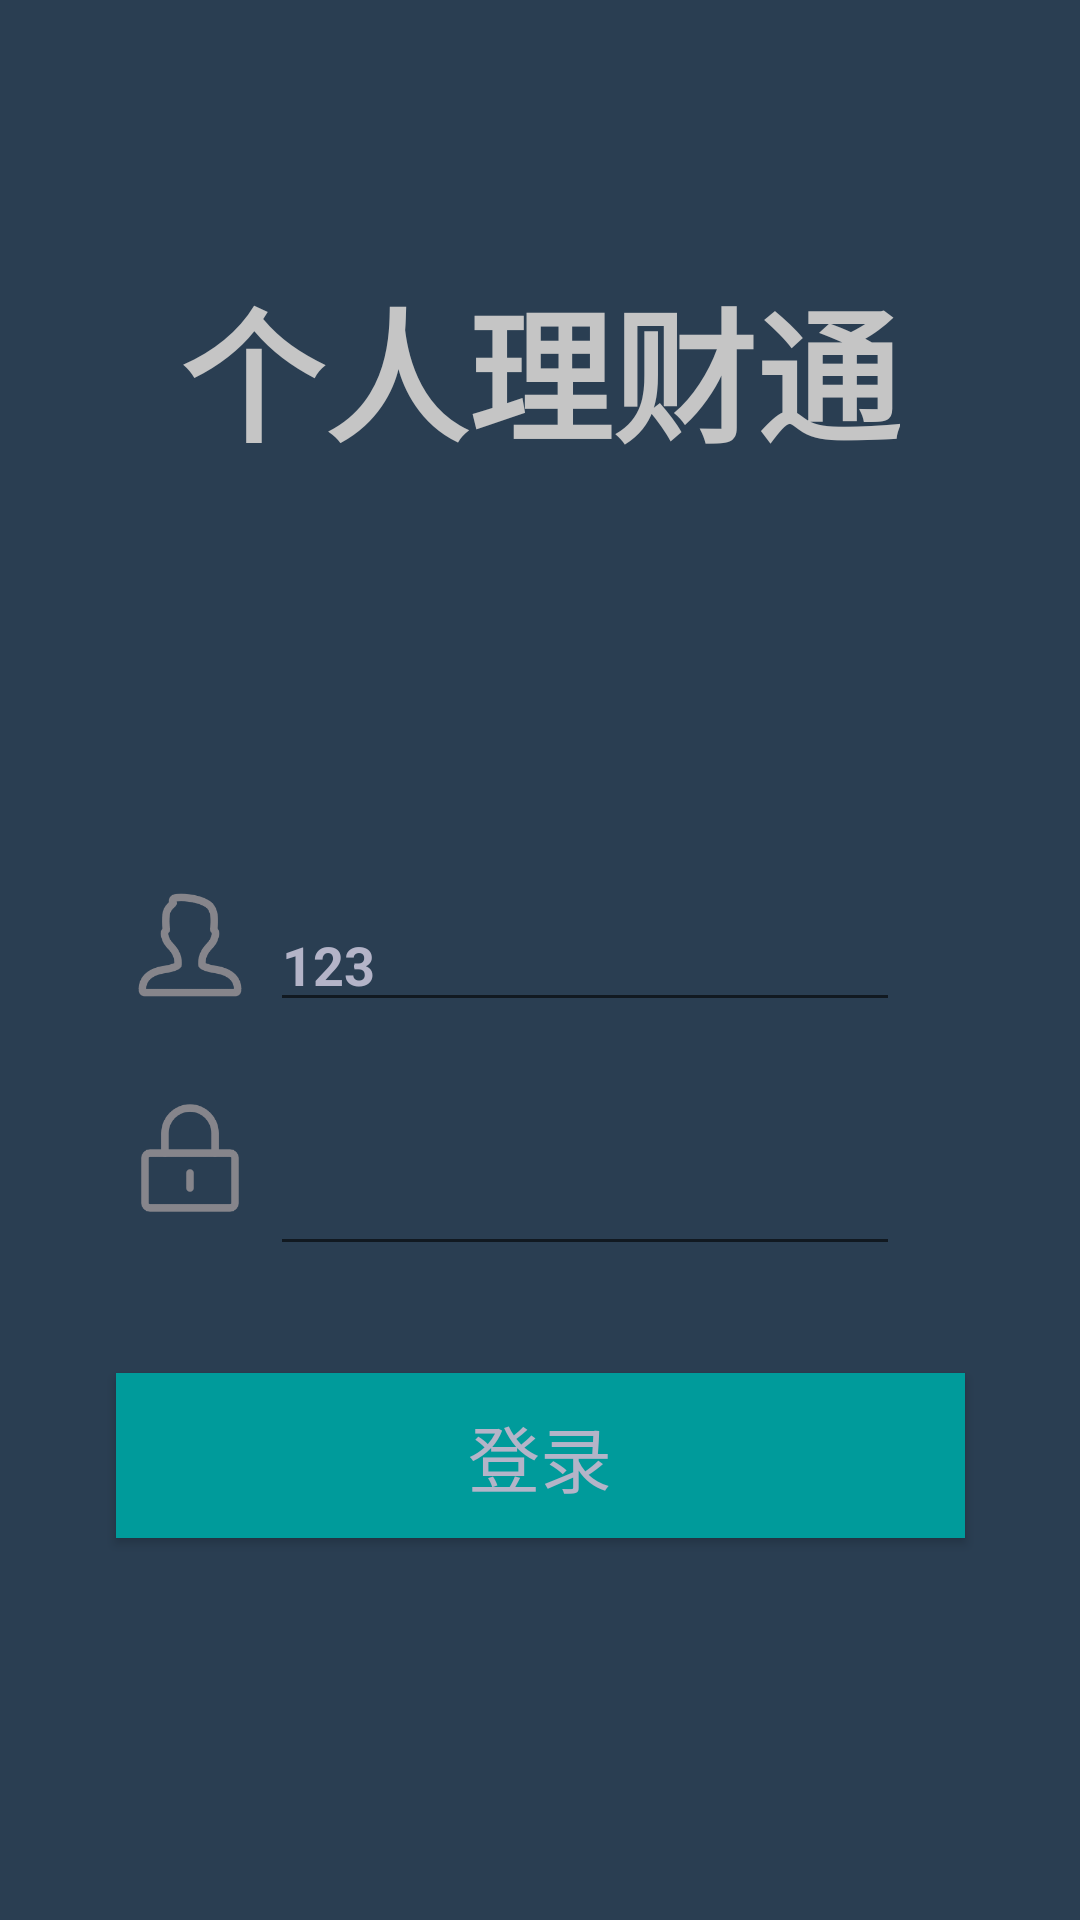

Locate icon controls on the screen. Image size 1080*1920, boxes as (left=x1, top=y1, right=x2, bottom=y2).
pic account: (left=138, top=894, right=242, bottom=997)
pic password: (left=141, top=1104, right=239, bottom=1212)
